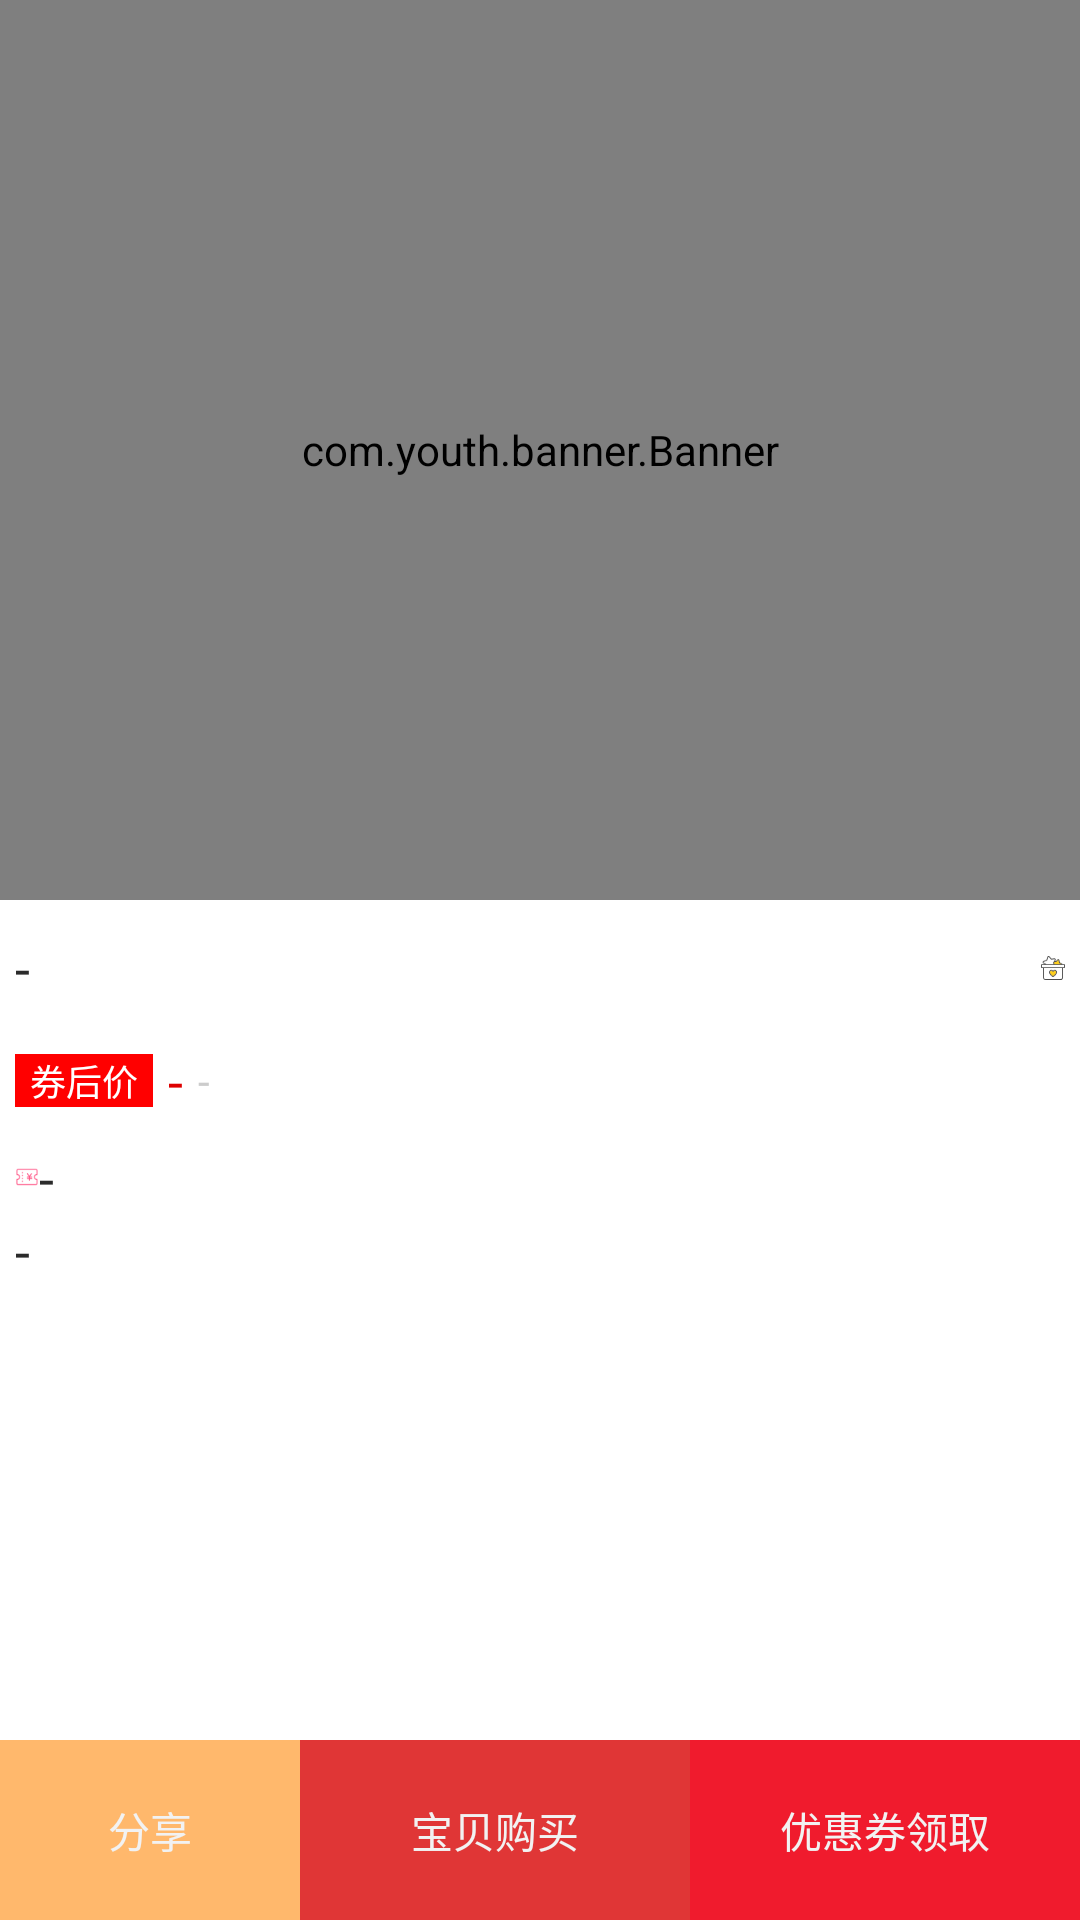

Icon bounding boxes for this 1080px x 1920px phone screenshot, format [left=x1, top=y1, right=x2, bottom=y2]:
collection: [left=1041, top=956, right=1065, bottom=980]
